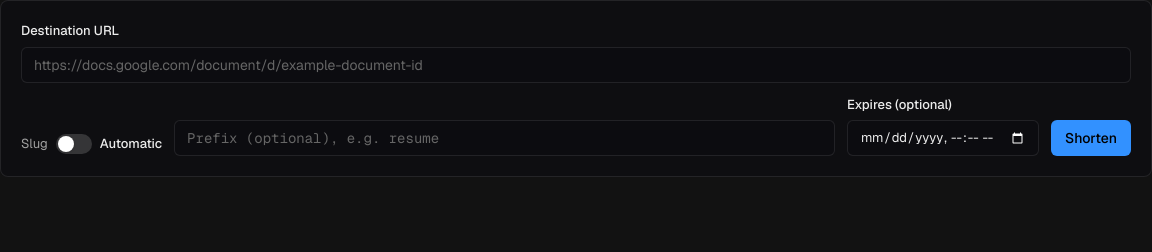
CreateForm submission › submits automatic slug mode and shows the created URL
In the field labelled "Destination URL": point(576, 64) [21,46,1131,82], type "https://example.com"
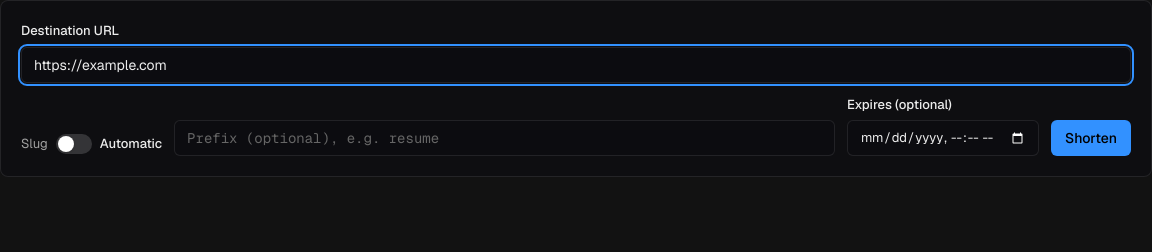
In the field named "prefix for generated slug": point(504, 138) [174,120,835,156], type "resume"
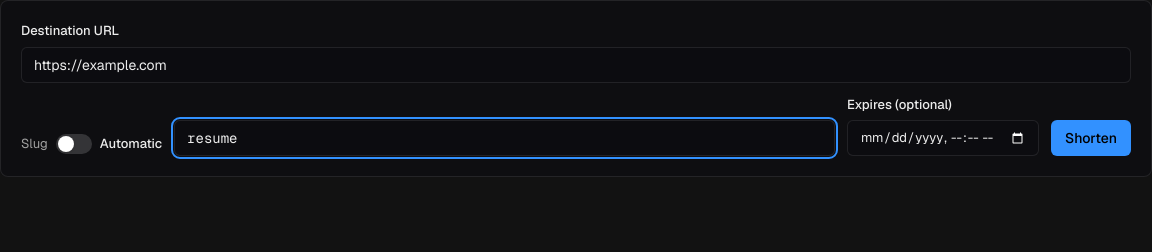
Click the button "Shorten": point(1091, 138) [1051,120,1131,156]
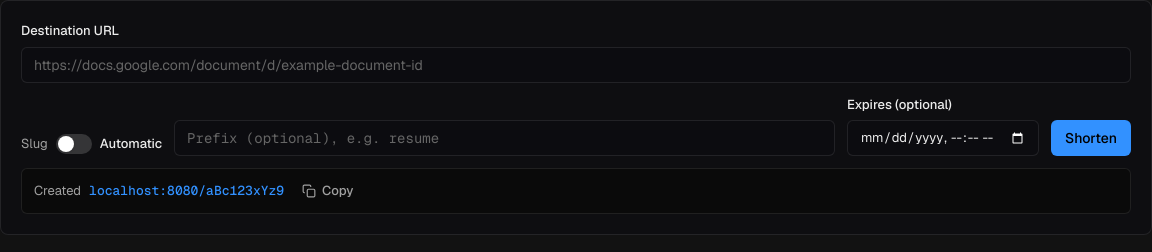
Now the link "localhost:8080/aBc123xYz9" is shown, box [89,181,284,201]
